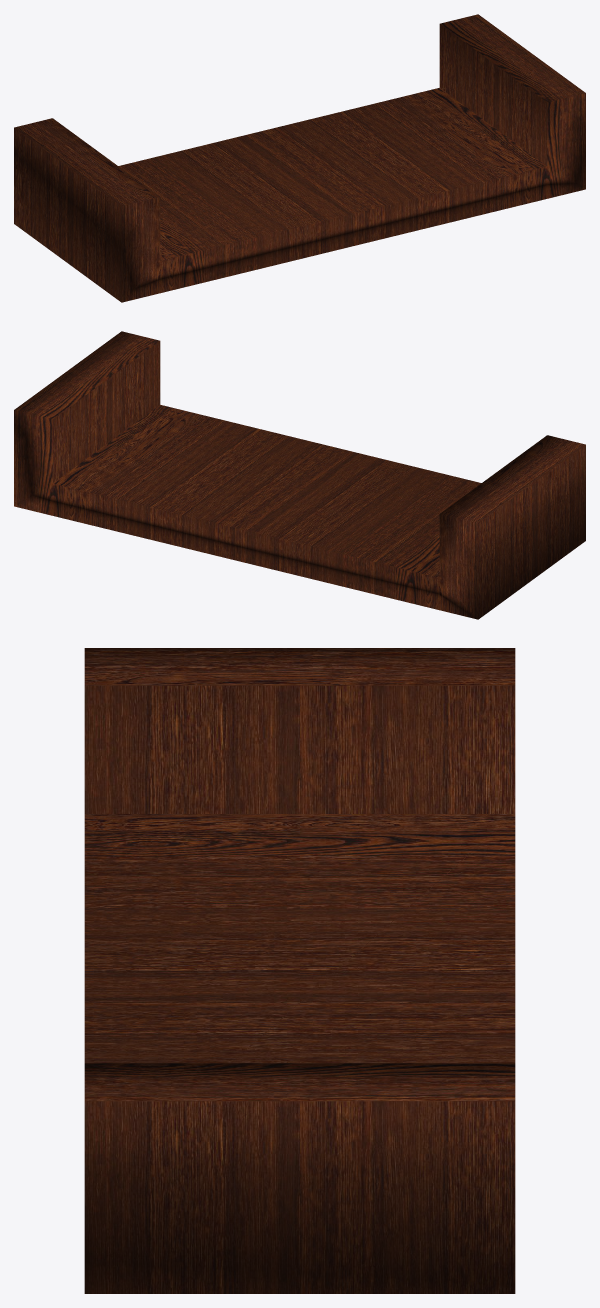
The model's file is shelf.glb.
3 renders of one model, top to bottom at view 1: azimuth 30°, elevation 25°; view 2: azimuth 150°, elevation 25°; view 3: azimuth 270°, elevation 25°, orthographic. The views are drawn at different scales.
Visible parts, largest first — view 1: shelf; view 2: shelf; view 3: shelf.
Boxes of the visible parts, bbox=[...] form: shelf: bbox=[14, 14, 585, 302]; shelf: bbox=[14, 331, 585, 619]; shelf: bbox=[84, 648, 515, 1293].
Size of the model in its own units: 1.3 by 0.2578 by 0.5221.
Materials: 1 (1 with a texture image).
